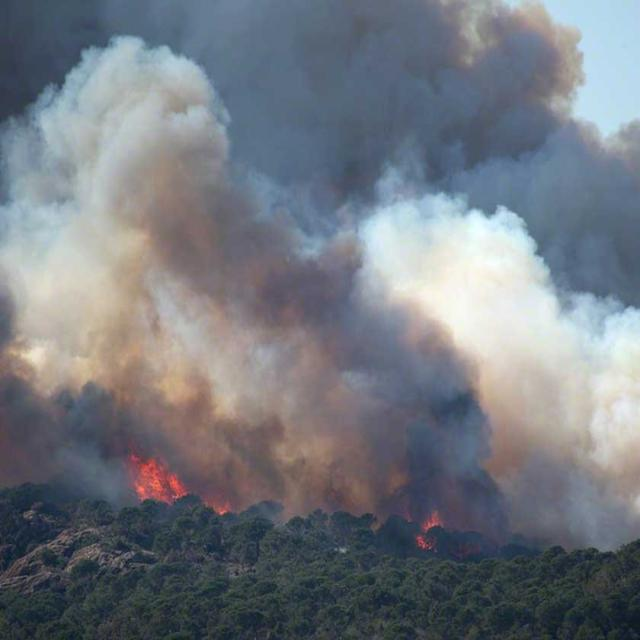Fire: (132, 449, 187, 506), (414, 514, 447, 550), (205, 494, 230, 516)
Smoke: (0, 0, 640, 492), (451, 490, 640, 547)
